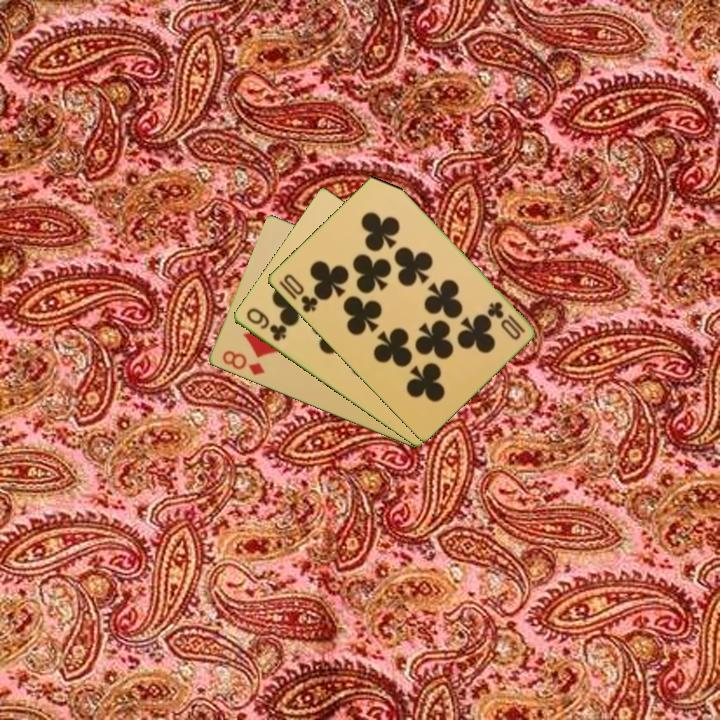10c: (275, 270, 321, 316), (484, 298, 528, 343)
8d: (218, 347, 267, 378)
9c: (242, 304, 289, 344)
